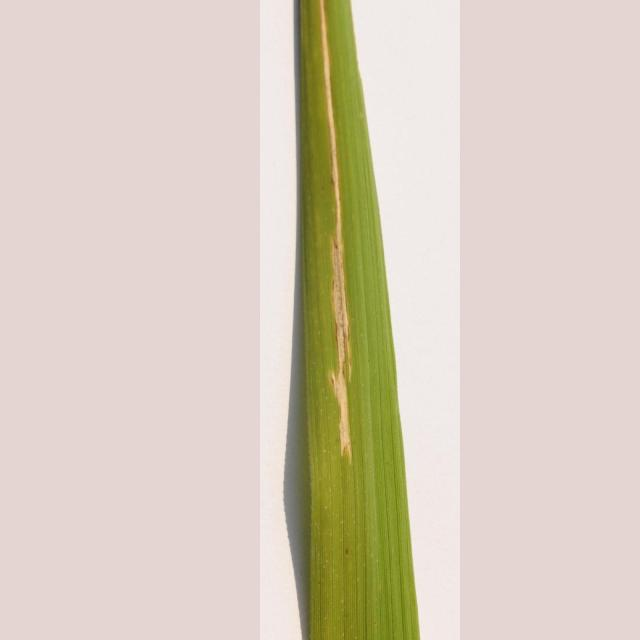Bacterial leaf blight: (258, 1, 463, 640)
